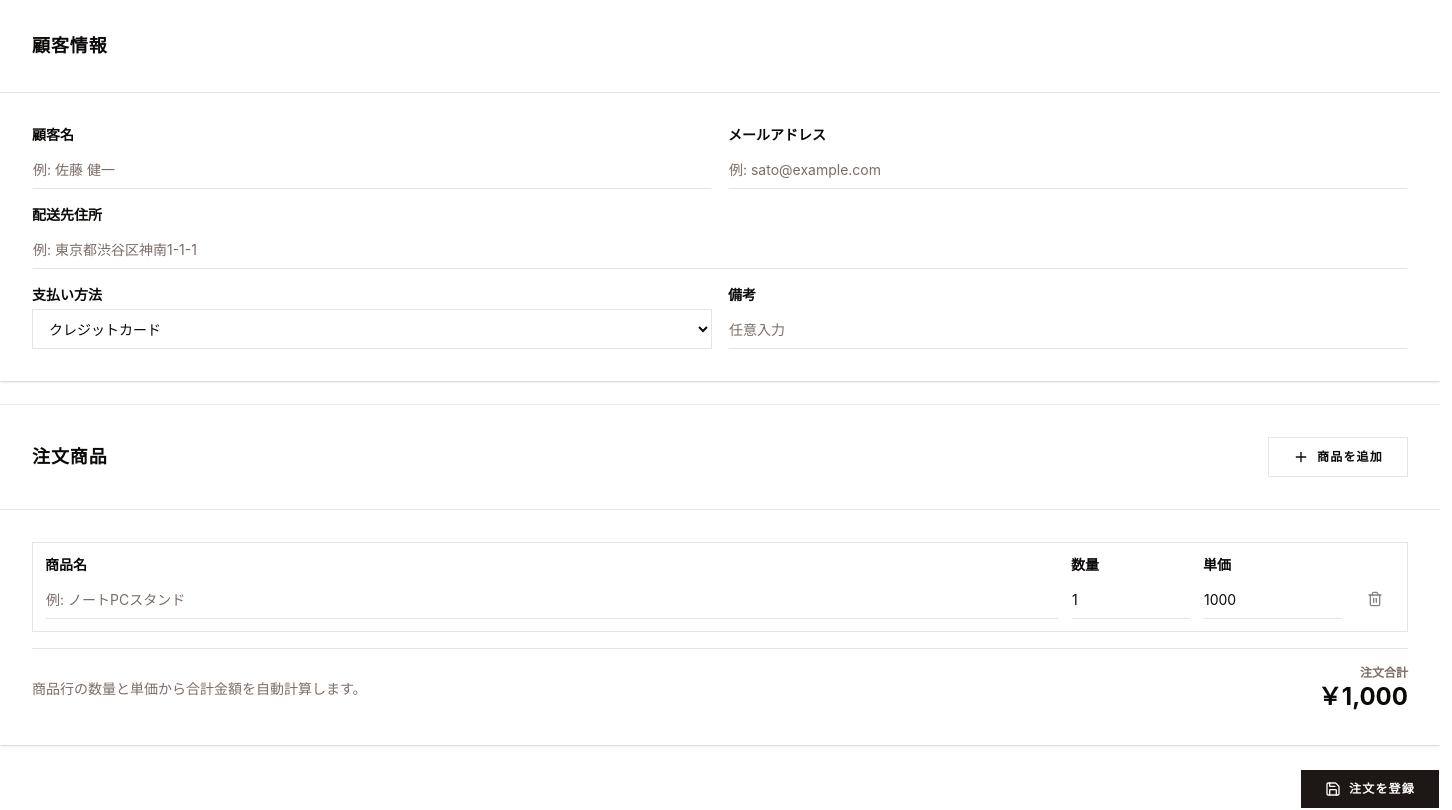
Test: OrderForm › shows validation errors when submitted empty
The image size is (1452, 810).
Click the button "注文を登録" at (1370, 789), box [1300,769,1440,809]
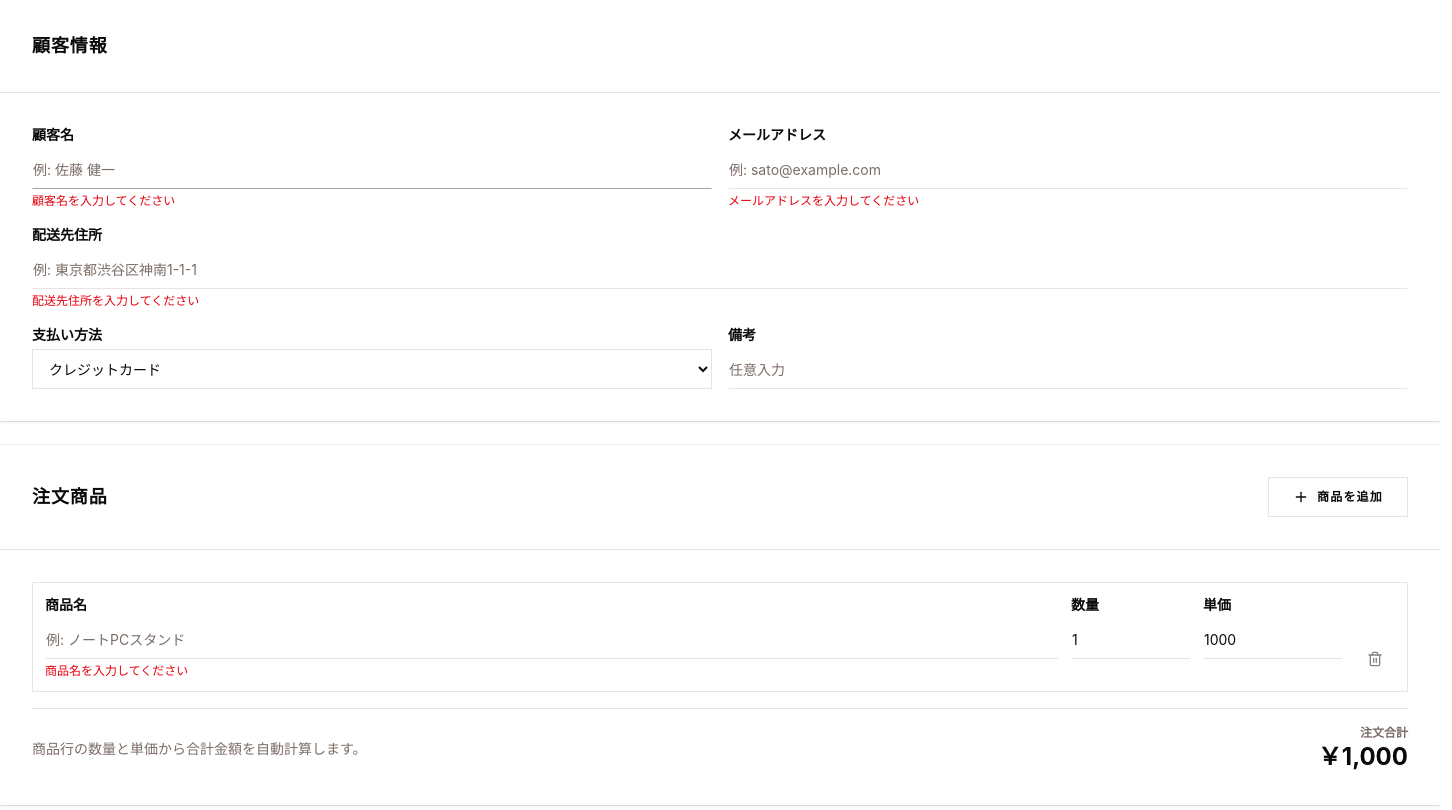
Now the text "顧客名を入力してください" is shown, box [32,193,175,208]
Now the text "商品名を入力してください" is shown, box [45,663,188,678]
